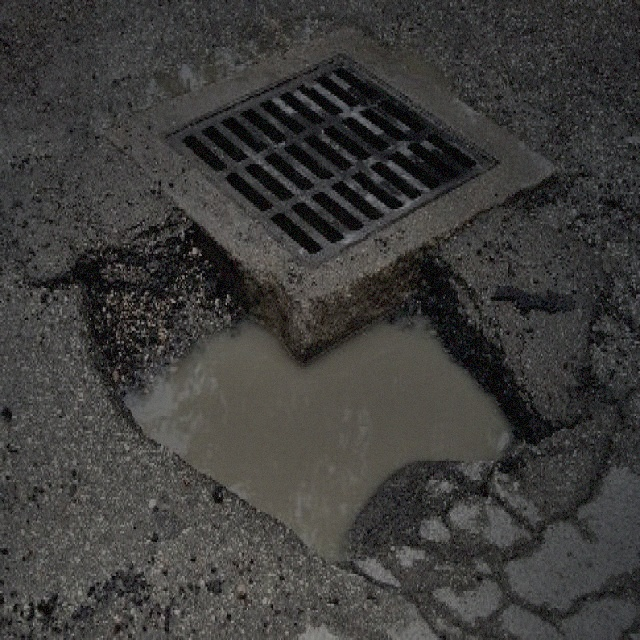pothole: (67, 212, 549, 566)
